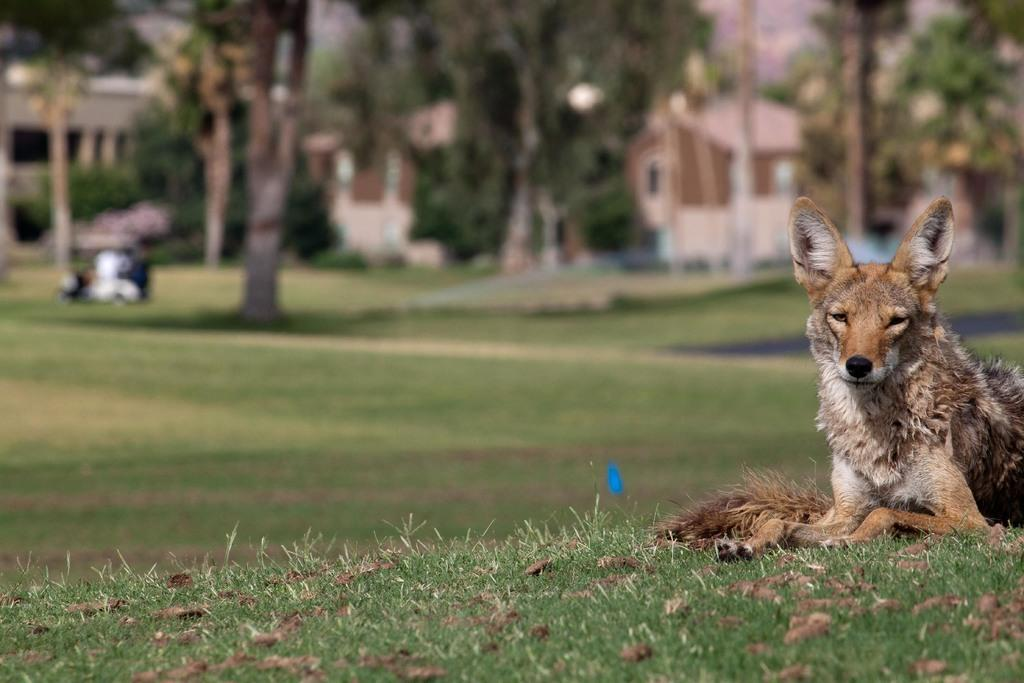kangaroo: (654, 194, 1024, 563)
